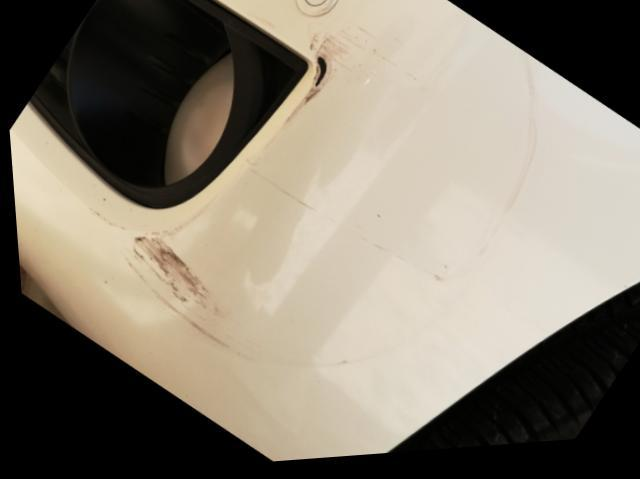scratch: (118, 59, 546, 383), (298, 0, 387, 129)
